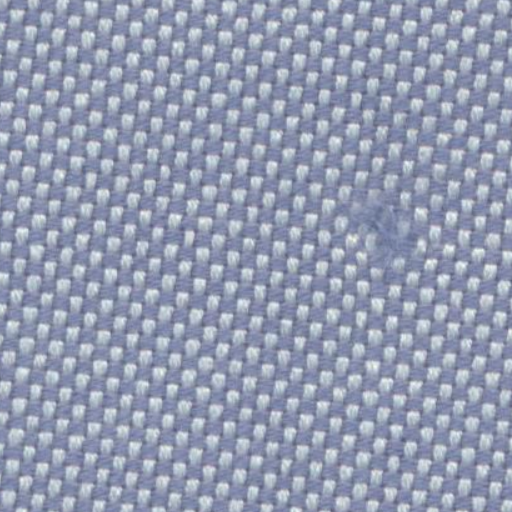MianQiu: (324, 174, 441, 302)
